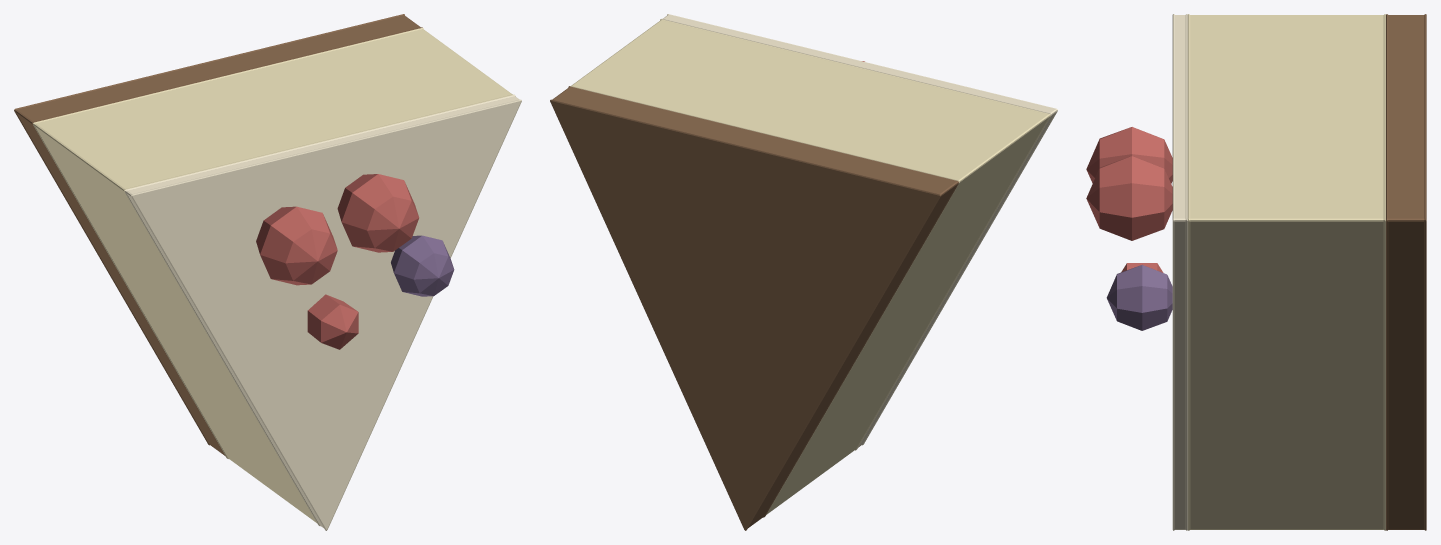
File: cheesecake.glb
The picture shows the model from 3 angles, left to right: view 1: azimuth 30°, elevation 25°; view 2: azimuth 150°, elevation 25°; view 3: azimuth 270°, elevation 25°; orthographic projection. The views are drawn at different scales.
Visible parts, largest first — view 1: cheesecake; view 2: cheesecake; view 3: cheesecake.
Boxes of the visible parts, x1,y1,x2,y2 form: cheesecake: (14,14,521,530); cheesecake: (550,14,1057,530); cheesecake: (1086,14,1426,530).
Size of the model in its own units: 0.0959 by 0.09 by 0.067.
